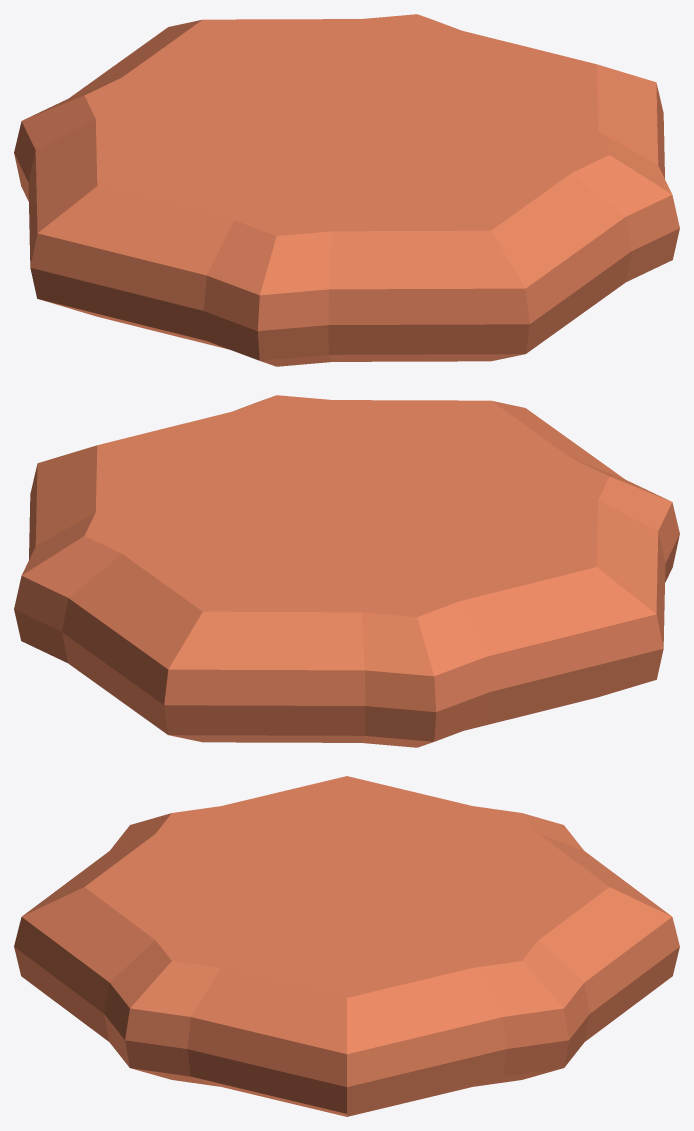
The model's file is Mushroom.glb.
3 renders of one model, top to bottom at view 1: azimuth 30°, elevation 25°; view 2: azimuth 150°, elevation 25°; view 3: azimuth 270°, elevation 25°, orthographic. The views are drawn at different scales.
Visible parts, largest first — view 1: Cube; view 2: Cube; view 3: Cube.
Part boxes in pixels (x1,y1,x2,y2): Cube: [14, 14, 679, 366]; Cube: [14, 395, 679, 747]; Cube: [14, 776, 679, 1116].
Bounding box in the file's own units: 10.14 × 2 × 10.14.
